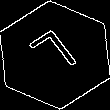L_SE: (25, 25, 85, 85)
